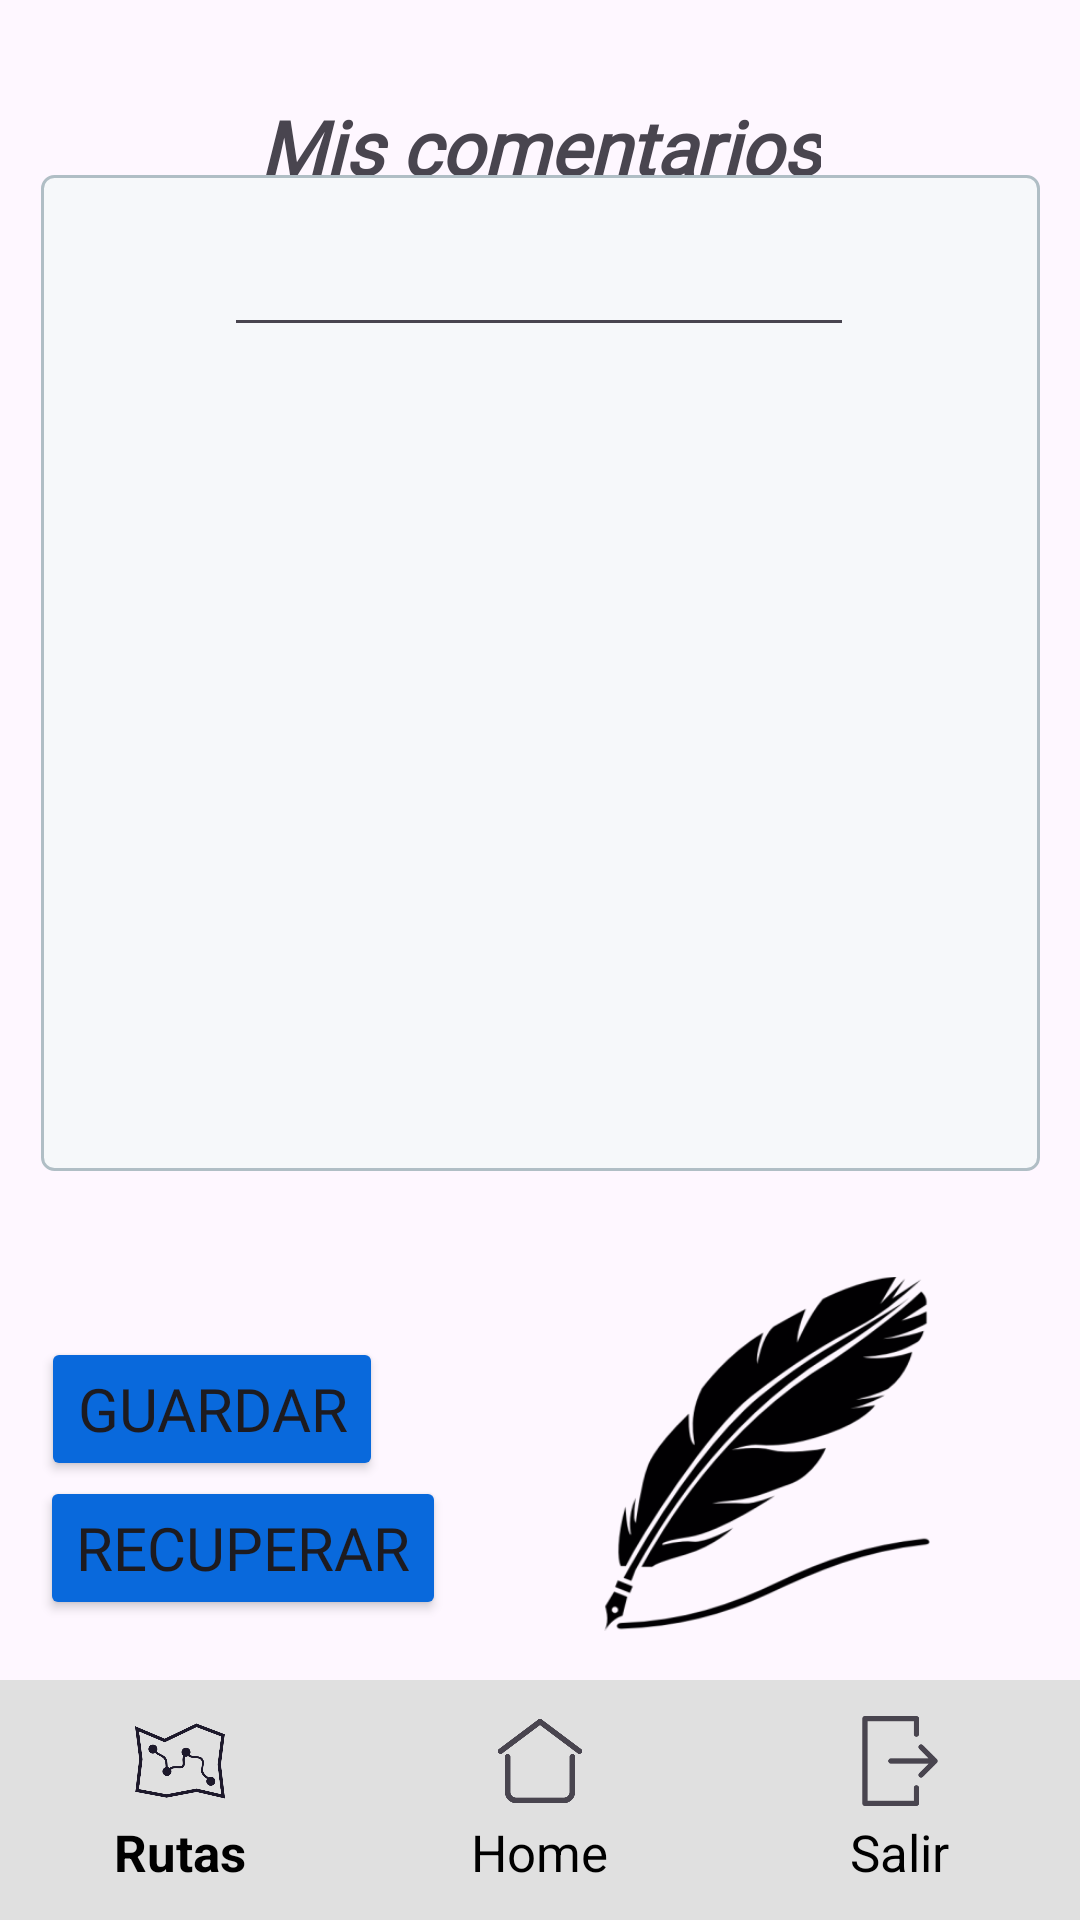

Icons on this 1080px x 1920px Android screen, each with the point to tap as (x,y):
pluma: (767,1453)
